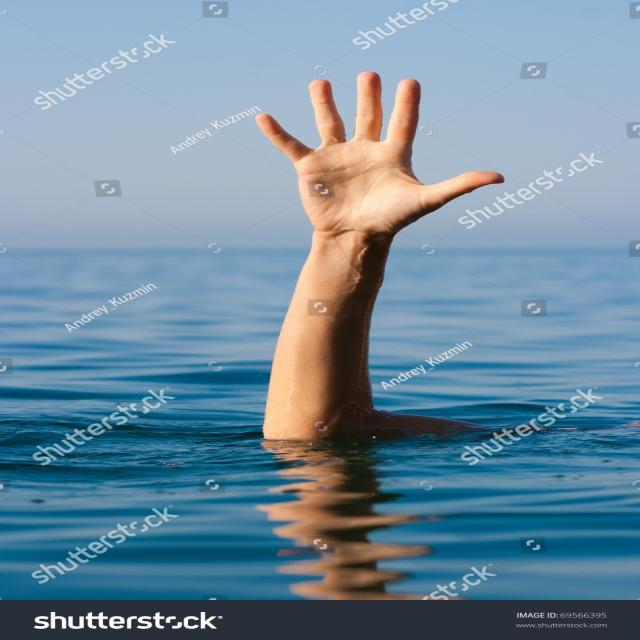drowning: (154, 60, 565, 553)
